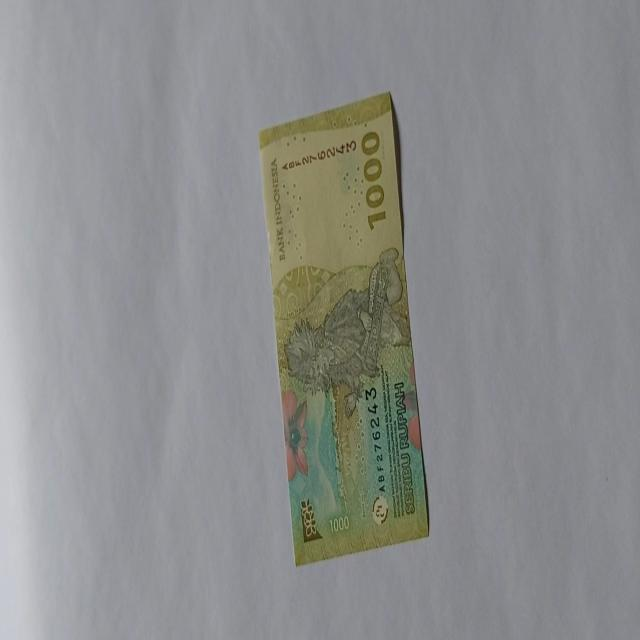seribu rupiah kertas: (256, 90, 430, 566)
